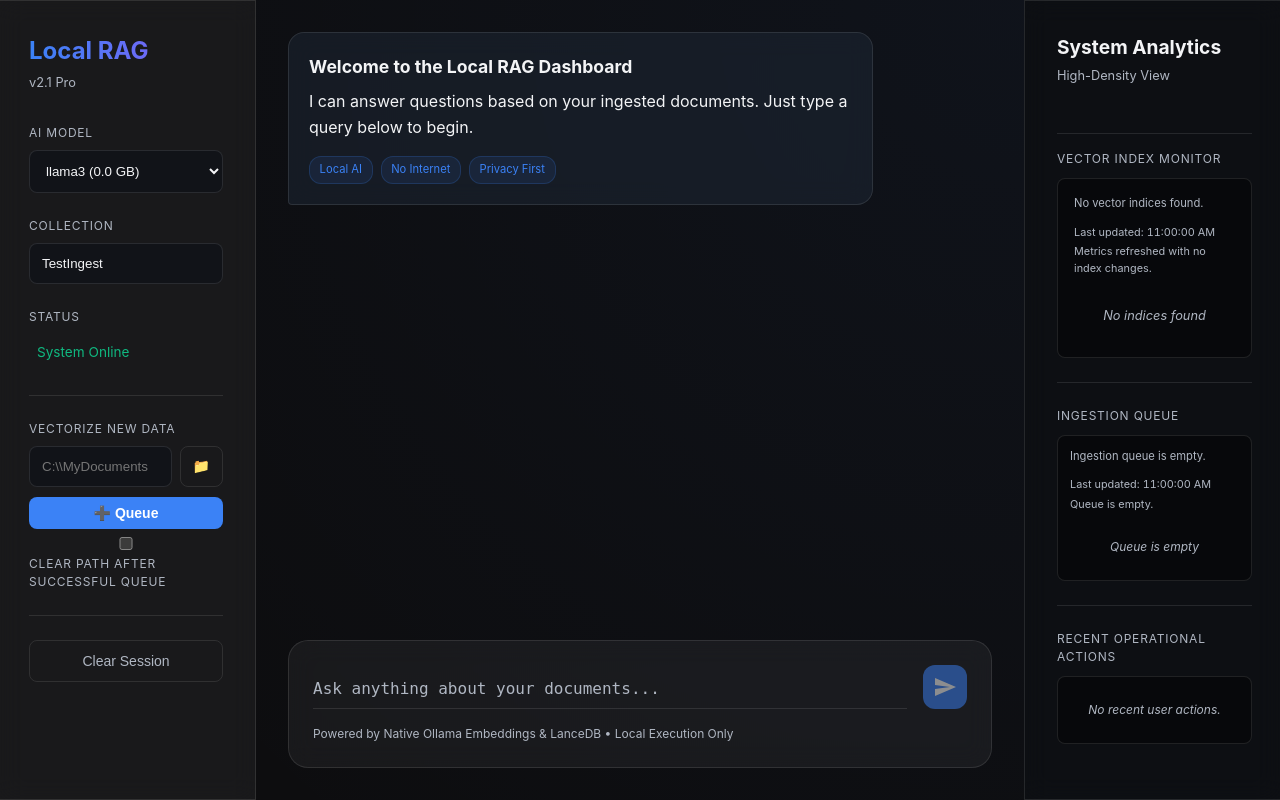
Test: App › cancels generation explicitly from the input action
Type "Cancel this" into the text box named "query message" at (610, 689), box [313,669,907,709]
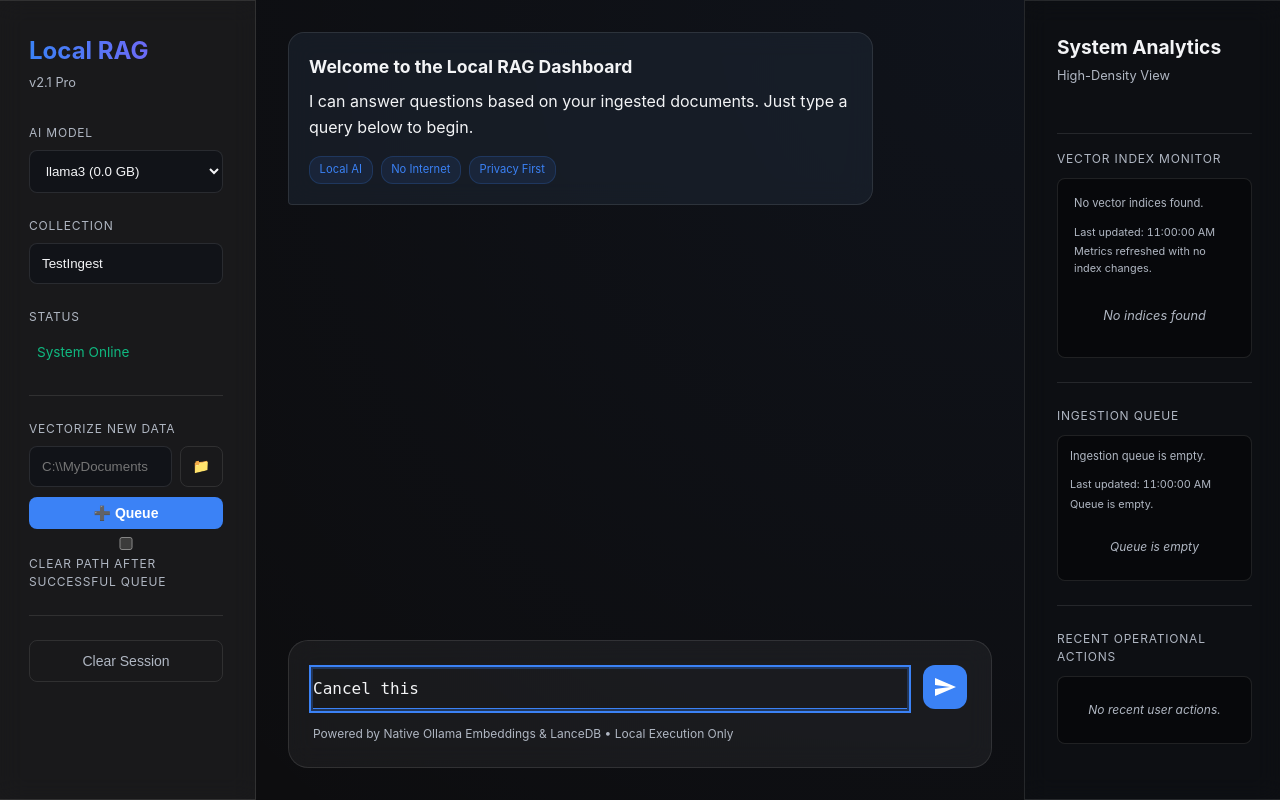
Click the button named "send message" at (945, 687), box [923,665,967,709]
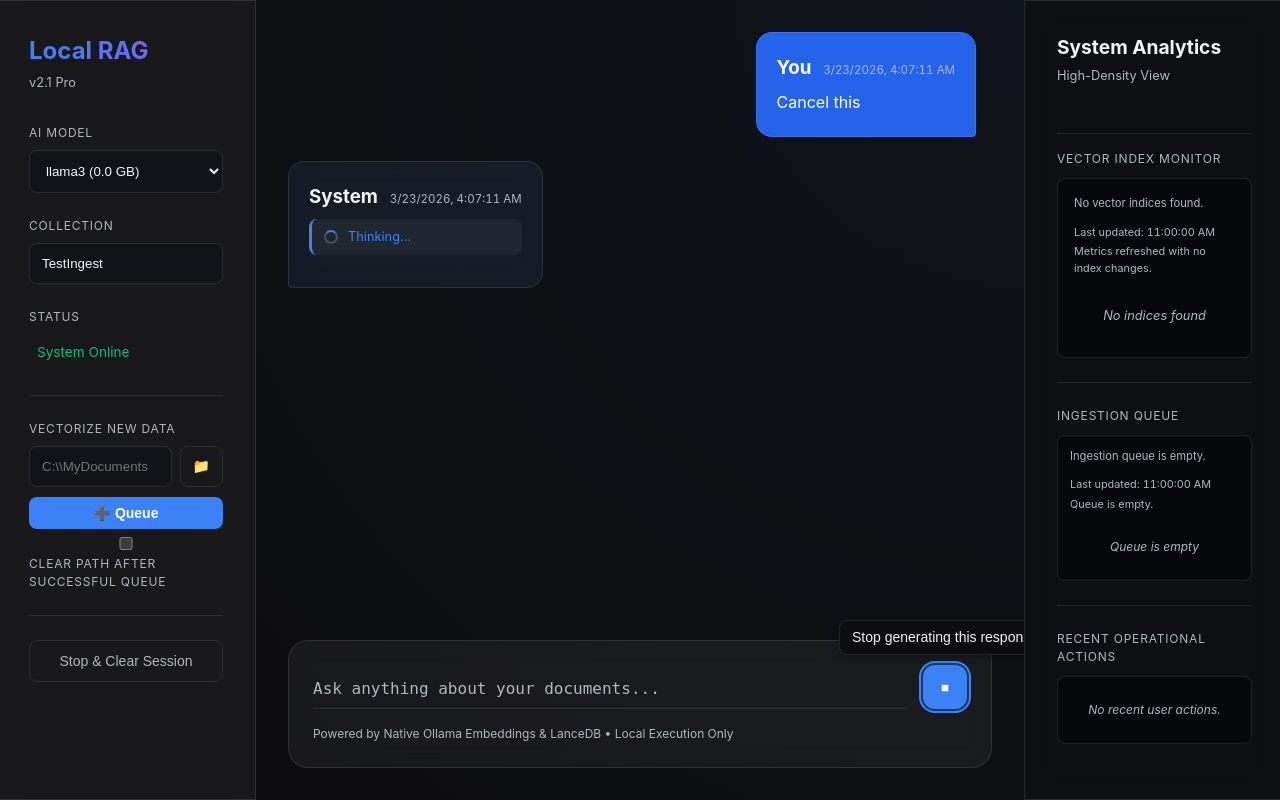
Click the button named "stop generation" at (945, 687), box [923,665,967,709]
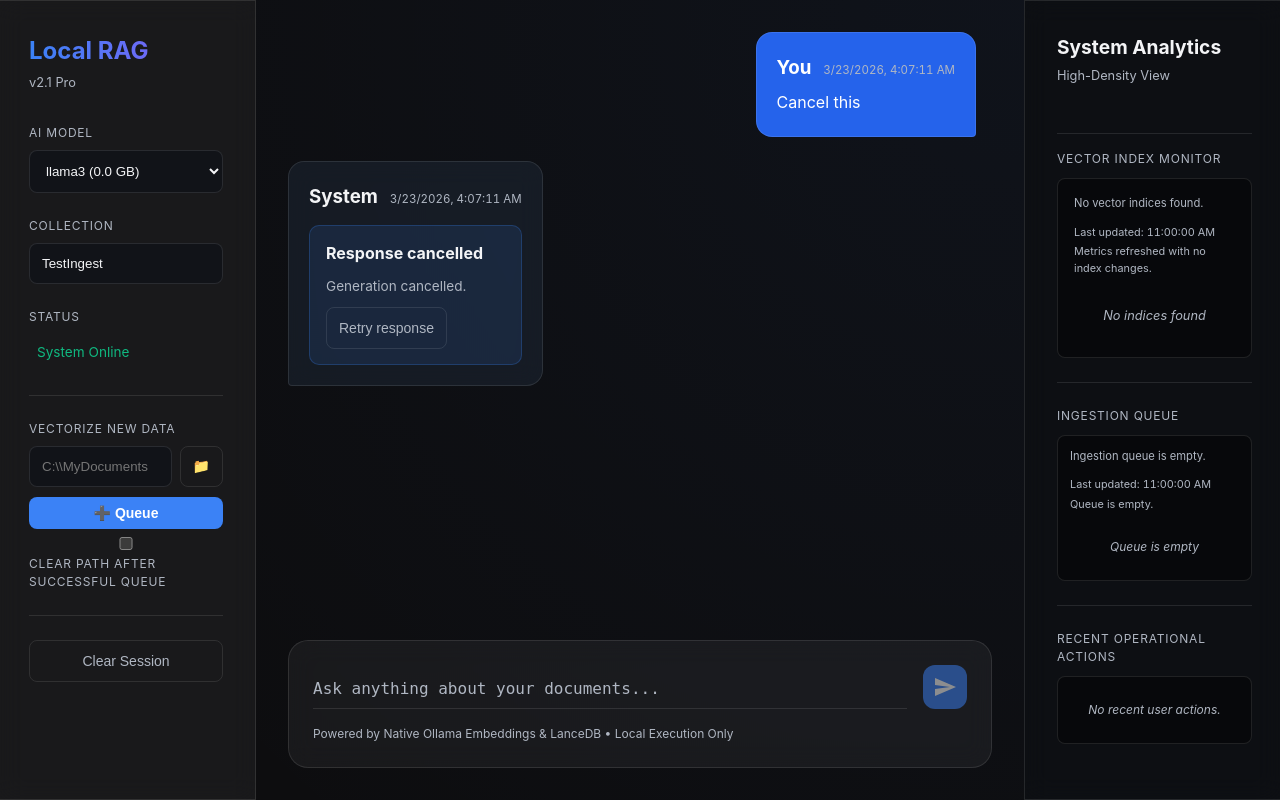
Check: the text "Response cancelled" is shown, box [326,241,505,266]
